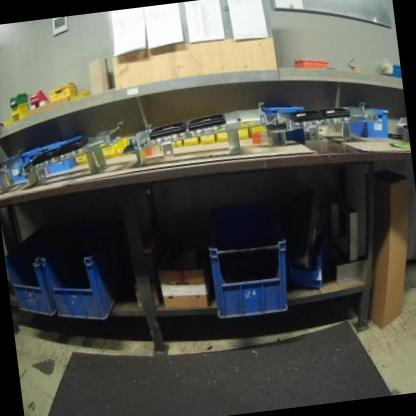small_load_carrier: (41, 220, 133, 329), (5, 214, 92, 324), (205, 225, 292, 319)
